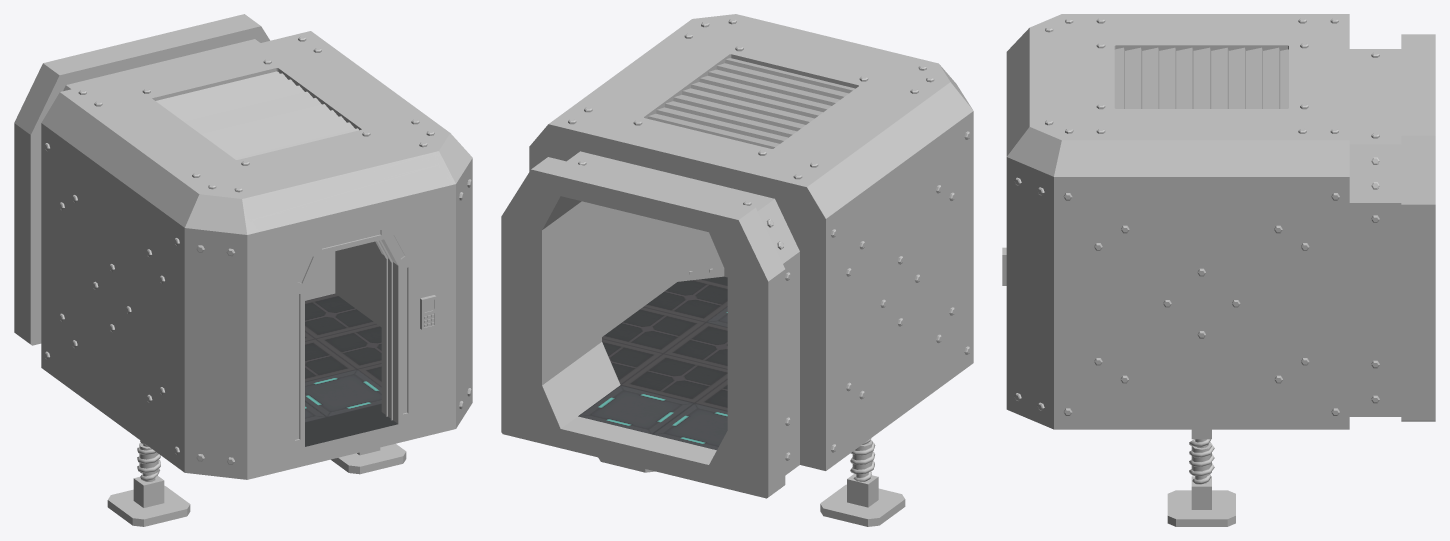
The model's file is SM_Building_10.fbx.
The picture shows the model from 3 angles, left to right: view 1: azimuth 30°, elevation 25°; view 2: azimuth 150°, elevation 25°; view 3: azimuth 270°, elevation 25°; orthographic projection. The views are drawn at different scales.
Visible parts, largest first — view 1: SM_Building_10_LOD0; view 2: SM_Building_10_LOD0; view 3: SM_Building_10_LOD0.
Boxes of the visible parts, <box> form: SM_Building_10_LOD0: <box>14,14,472,526</box>; SM_Building_10_LOD0: <box>501,14,973,526</box>; SM_Building_10_LOD0: <box>1002,14,1435,526</box>.
Size of what is drawn, in the model's own units: 4.07 by 4.93 by 5.05.
